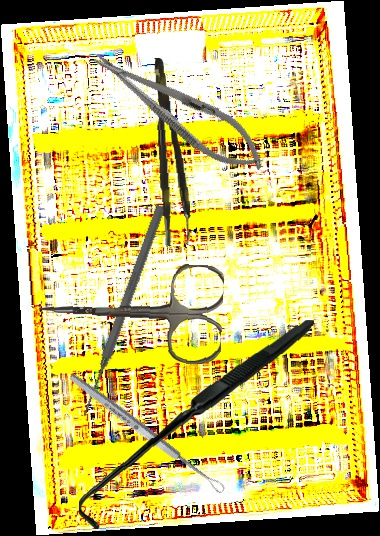Hook Surgical: (78, 312, 314, 536)
Iris Scissors: (36, 256, 225, 366)
Needle Holder: (83, 36, 276, 185)
Pusher: (77, 203, 168, 419)
Surgical Spoon: (67, 371, 227, 496)
Tissue Forceps: (151, 56, 193, 247)
